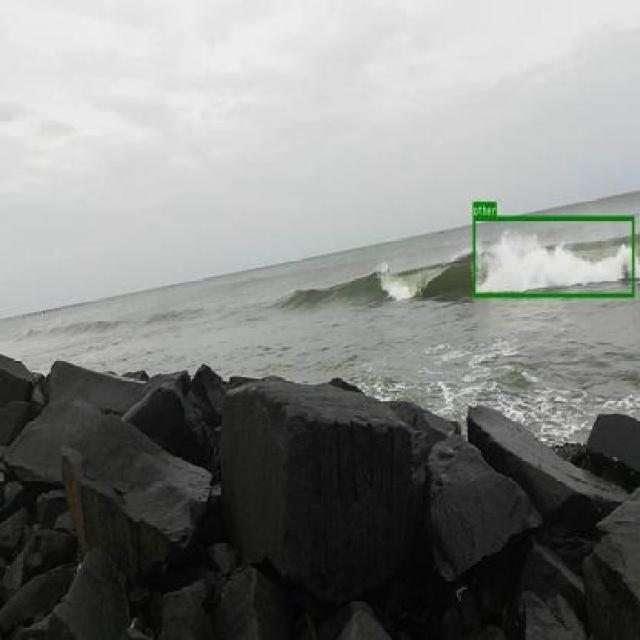other: (472, 216, 634, 296)
